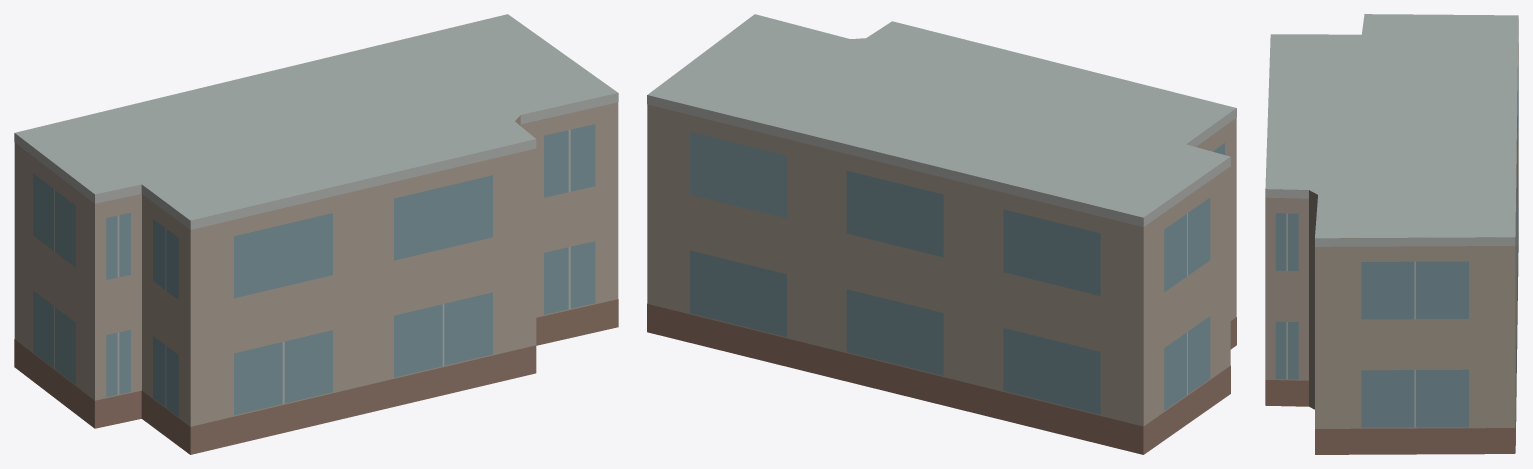
File: survey-upis-32659998.glb
The picture shows the model from 3 angles, left to right: view 1: azimuth 30°, elevation 25°; view 2: azimuth 150°, elevation 25°; view 3: azimuth 270°, elevation 25°; orthographic projection. The views are drawn at different scales.
Visible parts, largest first — view 1: survey-upis-32659998.tmp; view 2: survey-upis-32659998.tmp; view 3: survey-upis-32659998.tmp.
Part boxes in pixels (x1=…): survey-upis-32659998.tmp: x1=14, y1=14, x2=618, y2=454; survey-upis-32659998.tmp: x1=647, y1=14, x2=1236, y2=454; survey-upis-32659998.tmp: x1=1265, y1=14, x2=1518, y2=454.
Bounding box in the file's own units: 13.55 × 6.1 × 6.47.
